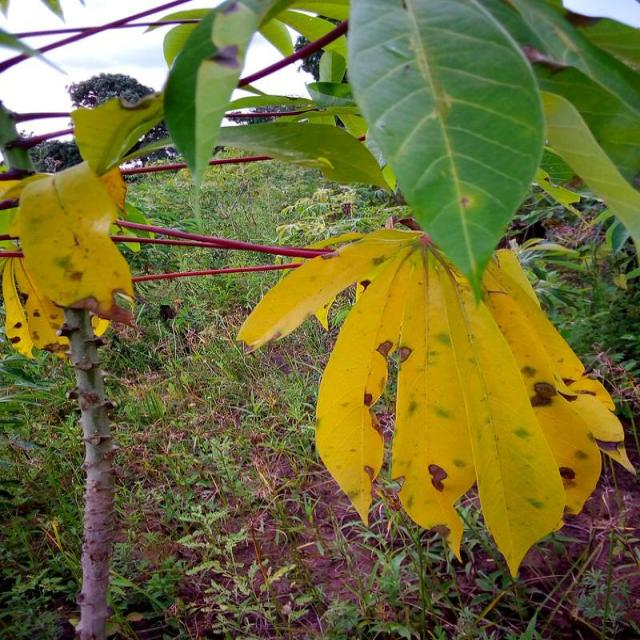Mosaico: (237, 216, 620, 571), (4, 158, 141, 369)
